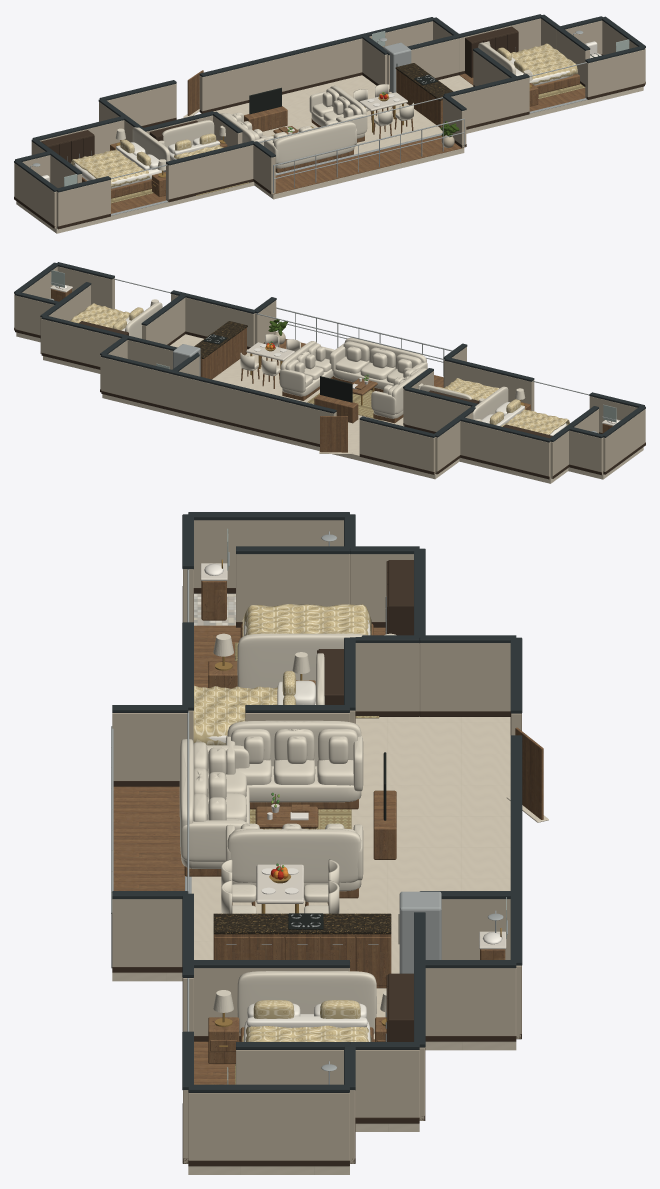
File: C-jodi.glb
3 renders of one model, top to bottom at view 1: azimuth 30°, elevation 25°; view 2: azimuth 150°, elevation 25°; view 3: azimuth 270°, elevation 25°, orthographic. The views are drawn at different scales.
Visible parts, largest first — view 1: Apartment foundation, Ivory masonry.003, Ivory masonry.013, Ivory masonry.010, Sofa back.001, Ivory masonry.009, Ivory masonry.014, Ivory masonry.002, Balcony · timber deck.001, Ivory masonry.023, Soft jacquard duvet with folds.003, Ivory masonry.015 (+43 smaller); view 2: Ivory masonry.003, Apartment foundation, Ivory masonry, Ivory masonry.002, Ivory masonry.005, Ivory masonry.010, Ivory masonry.020, Ivory masonry.013, Ivory masonry.015, Ivory masonry.024, Ivory masonry.016, Kitchen cabinetry (+37 smaller); view 3: Apartment foundation, Ivory masonry.008, Ivory masonry.001, Ivory masonry.004, Ivory masonry.018, Sofa back.003, Ivory masonry.015, Balcony · timber deck, Padded headboard.004, Ivory masonry.011, Ivory masonry.012, Ivory masonry.019 (+41 smaller).
Boxes of the visible parts, <box> form: Apartment foundation: <box>16,75,643,233</box>; Ivory masonry.003: <box>199,21,432,111</box>; Ivory masonry.013: <box>166,145,253,201</box>; Ivory masonry.010: <box>451,77,529,126</box>; Sofa back.001: <box>274,121,356,164</box>; Ivory masonry.009: <box>585,49,644,98</box>; Ivory masonry.014: <box>56,180,110,228</box>; Ivory masonry.002: <box>107,83,176,125</box>; Balcony · timber deck.001: <box>273,135,463,194</box>; Ivory masonry.023: <box>387,38,459,88</box>; Soft jacquard duvet with folds.003: <box>71,149,149,187</box>; Ivory masonry.015: <box>14,163,56,228</box>; Ivory masonry.003: <box>101,357,336,443</box>; Apartment foundation: <box>16,332,643,483</box>; Ivory masonry: <box>460,421,550,478</box>; Ivory masonry.002: <box>359,420,435,473</box>; Ivory masonry.005: <box>41,319,120,366</box>; Ivory masonry.010: <box>171,294,254,347</box>; Ivory masonry.020: <box>404,390,470,431</box>; Ivory masonry.013: <box>444,361,534,410</box>; Ivory masonry.015: <box>603,409,645,471</box>; Ivory masonry.024: <box>142,298,185,344</box>; Ivory masonry.016: <box>569,430,603,474</box>; Kitchen cabinetry: <box>200,327,246,379</box>; Apartment foundation: <box>112,716,516,1174</box>; Ivory masonry.008: <box>188,1092,349,1160</box>; Ivory masonry.001: <box>419,643,510,711</box>; Ivory masonry.004: <box>425,968,516,1035</box>; Ivory masonry.018: <box>236,554,349,621</box>; Sofa back.003: <box>227,829,361,882</box>; Ivory masonry.015: <box>193,520,343,587</box>; Balcony · timber deck: <box>113,786,184,890</box>; Padded headboard.004: <box>237,971,376,1033</box>; Ivory masonry.011: <box>112,899,182,966</box>; Ivory masonry.012: <box>112,713,187,780</box>; Ivory masonry.019: <box>355,643,419,711</box>.
Bounding box in the file's own units: 18.51 × 1.37 × 5.93.
Materials: 24 (6 with a texture image).
